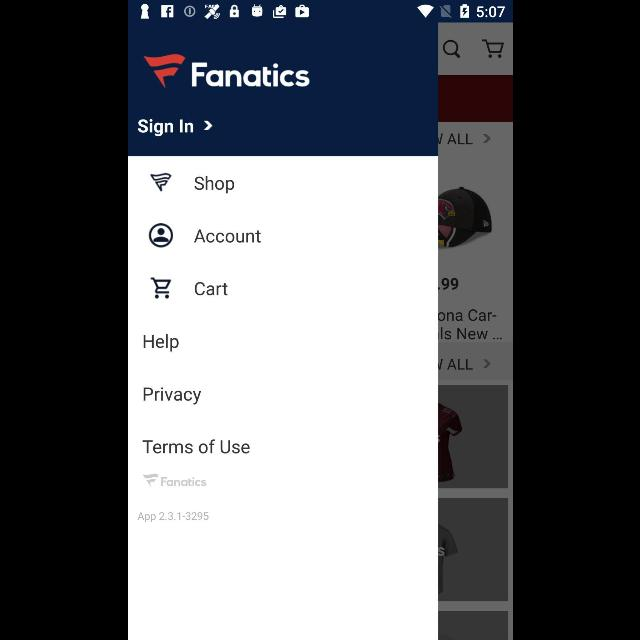icon: (148, 222, 172, 248), (150, 277, 170, 299), (204, 120, 212, 132)
image: (142, 54, 185, 88), (150, 172, 170, 192), (142, 474, 158, 486)
panel: (128, 24, 438, 640)
text: (190, 62, 310, 88), (142, 440, 248, 454), (136, 119, 194, 138), (143, 387, 201, 405), (193, 229, 261, 243), (136, 512, 210, 522), (193, 176, 234, 194), (142, 334, 178, 352), (160, 477, 206, 488), (193, 282, 227, 296)
uppertaskbar: (128, 1, 512, 23)
